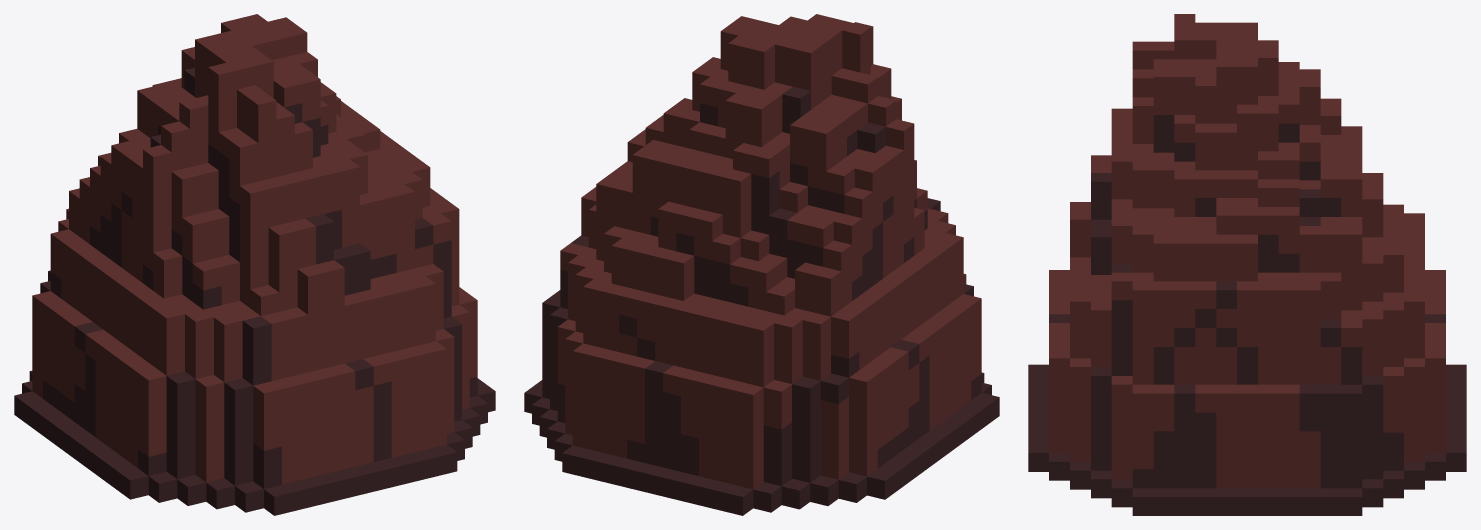
File: wall_middle.obj
3 views of the same model, side by side, from view 1: azimuth 30°, elevation 25°; view 2: azimuth 150°, elevation 25°; view 3: azimuth 270°, elevation 25° (orthographic).
Bounding box in the file's own units: 20 × 20 × 21.
1 material, 1 textured.
